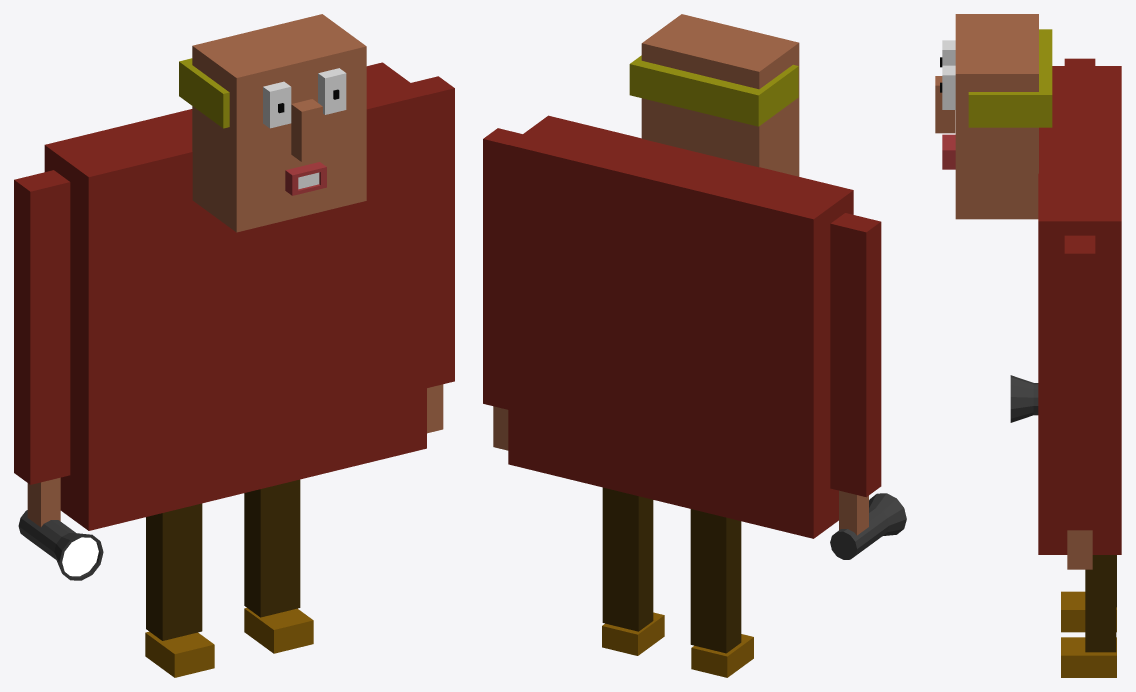
Rendered from Man.glb.
3 renders of one model, left to right at view 1: azimuth 30°, elevation 25°; view 2: azimuth 150°, elevation 25°; view 3: azimuth 270°, elevation 25°, orthographic. The views are drawn at different scales.
Visible parts, largest first — view 1: Cube, Cube.001, Cube.003, Cube.002, Cube.004, Cube.005, Cylinder, Cube.007, Cube.006, Cube.016, Cube.010, Cube.009 (+4 smaller); view 2: Cube, Cube.001, Cube.003, Cube.002, Cube.005, Cube.004, Cube.016, Cylinder, Cube.007, Cube.006, Cube.009, Cube.008; view 3: Cube, Cube.001, Cube.002, Cube.016, Cube.004, Cube.006, Cylinder, Cube.007, Cube.008, Cube.010, Cube.011, Cube.013 (+1 smaller).
Boxes of the visible parts, <box> form: Cube: <box>44,62,426,530</box>; Cube.001: <box>192,14,366,232</box>; Cube.003: <box>14,170,70,484</box>; Cube.002: <box>411,76,454,387</box>; Cube.004: <box>244,479,300,617</box>; Cube.005: <box>146,503,202,640</box>; Cylinder: <box>18,510,103,580</box>; Cube.007: <box>145,631,214,677</box>; Cube.006: <box>244,608,313,653</box>; Cube.016: <box>179,58,229,128</box>; Cube.010: <box>291,99,322,161</box>; Cube.009: <box>27,477,60,527</box>; Cube: <box>508,115,853,538</box>; Cube.001: <box>641,14,799,176</box>; Cube.003: <box>830,213,881,497</box>; Cube.002: <box>483,128,522,409</box>; Cube.005: <box>690,509,741,653</box>; Cube.004: <box>602,487,653,631</box>; Cube.016: <box>629,55,798,126</box>; Cylinder: <box>830,493,906,559</box>; Cube.007: <box>691,634,753,677</box>; Cube.006: <box>602,612,664,655</box>; Cube.009: <box>839,490,868,535</box>; Cube.008: <box>493,406,508,450</box>; Cube: <box>1038,66,1121,554</box>; Cube.001: <box>955,14,1038,219</box>; Cube.002: <box>1064,235,1095,530</box>; Cube.016: <box>968,29,1052,127</box>; Cube.004: <box>1085,555,1116,652</box>; Cube.006: <box>1061,637,1116,677</box>; Cylinder: <box>1010,375,1038,422</box>; Cube.007: <box>1061,591,1116,632</box>; Cube.008: <box>1067,530,1092,569</box>; Cube.010: <box>935,76,955,133</box>; Cube.011: <box>942,65,955,109</box>; Cube.013: <box>942,134,955,169</box>.
Bounding box in the file's own units: 2.51 × 3.61 × 1.01.
